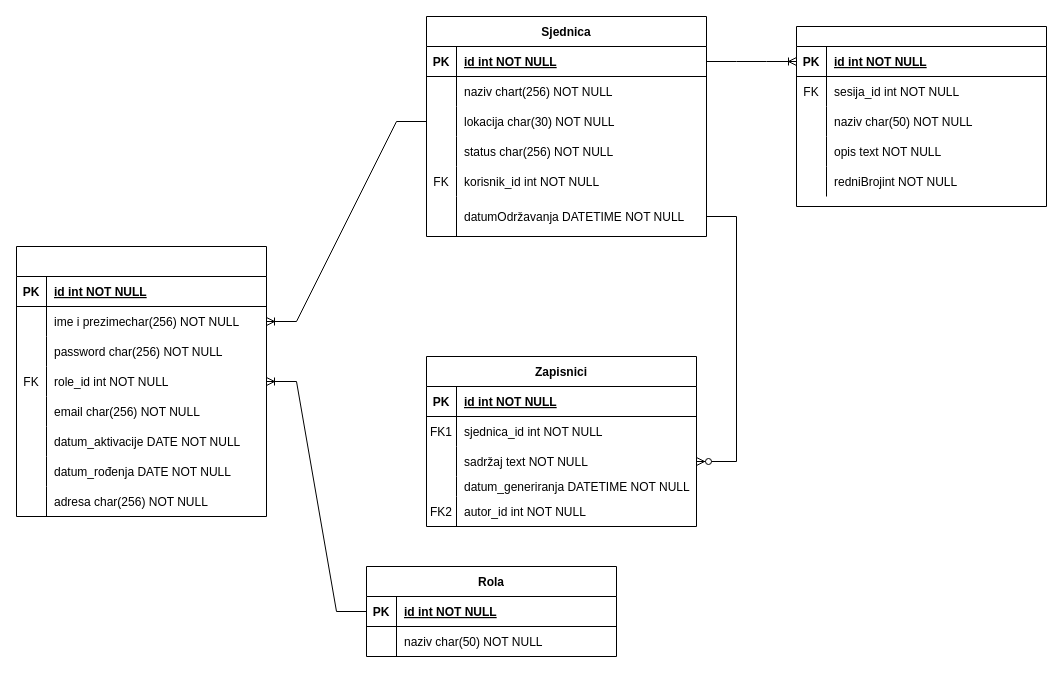
Image size: 1063x673. Some labels were removed from this diagram. The shapes that lost their labels are listed below. From the top down, each one's box as (x1, y1, x2, y2) in pixels, then its label:
(796, 26, 1046, 206): Agenda
(16, 246, 266, 516): Korisnik
